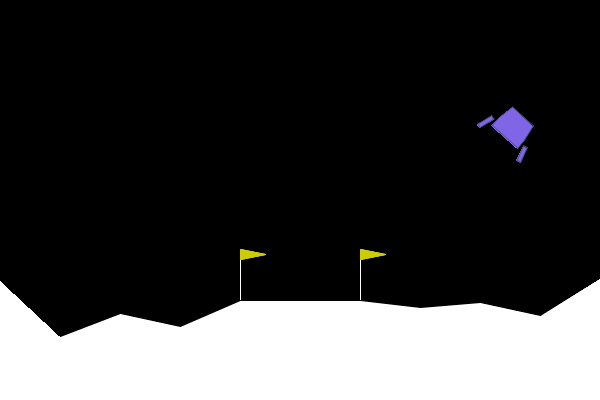lander: (475, 95, 546, 165)
